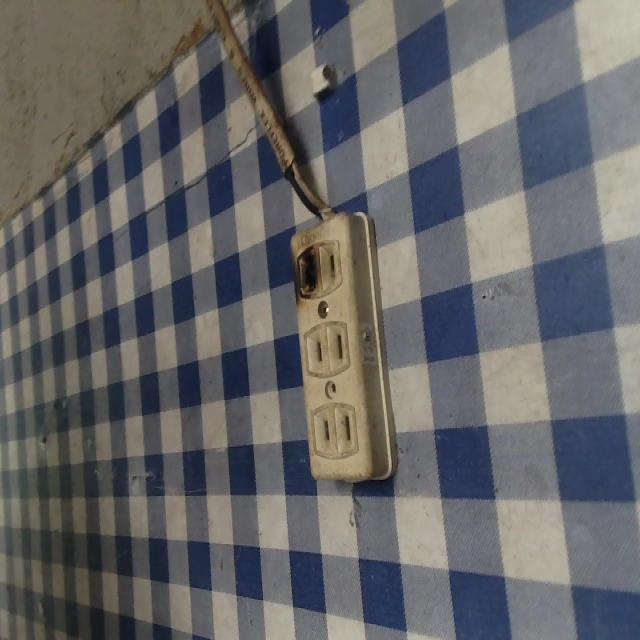-: (295, 244, 322, 299)
